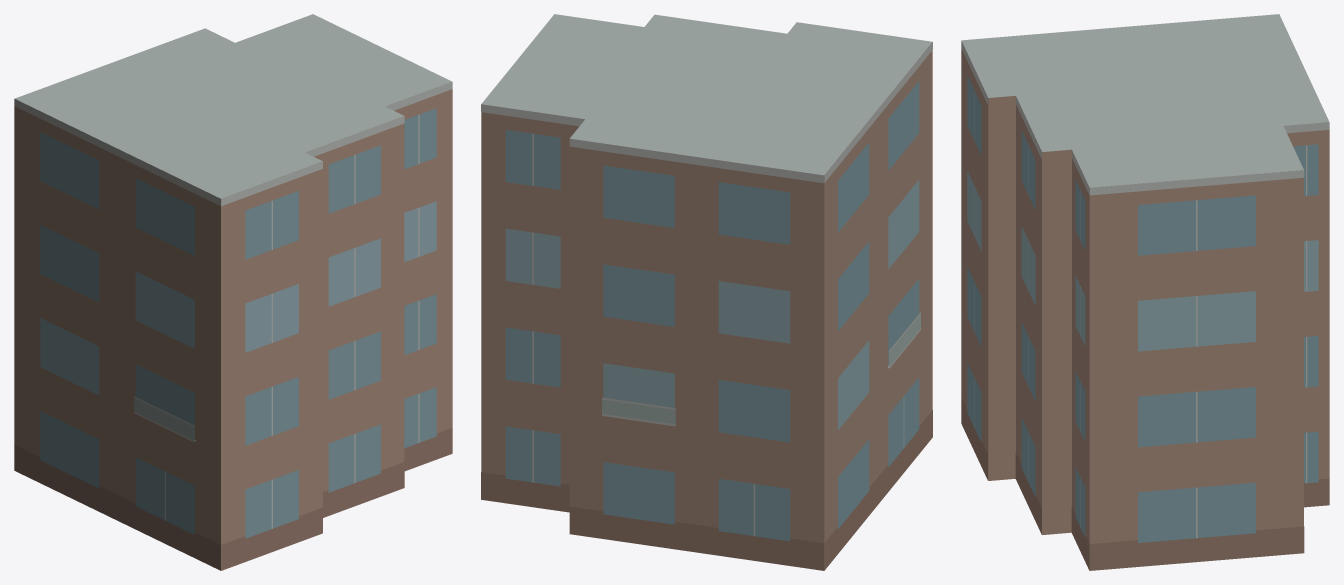
File: survey-upis-32605532.glb
3 views of the same model, side by side, from view 1: azimuth 30°, elevation 25°; view 2: azimuth 150°, elevation 25°; view 3: azimuth 270°, elevation 25° (orthographic). The views are drawn at different scales.
Parts seen in each view (by area): view 1: survey-upis-32605532.tmp; view 2: survey-upis-32605532.tmp; view 3: survey-upis-32605532.tmp.
Boxes of the visible parts, <box> form: survey-upis-32605532.tmp: <box>14,14,452,570</box>; survey-upis-32605532.tmp: <box>481,14,932,570</box>; survey-upis-32605532.tmp: <box>961,14,1329,570</box>.
Bounding box in the file's own units: 11.88 × 12.2 × 10.64.
